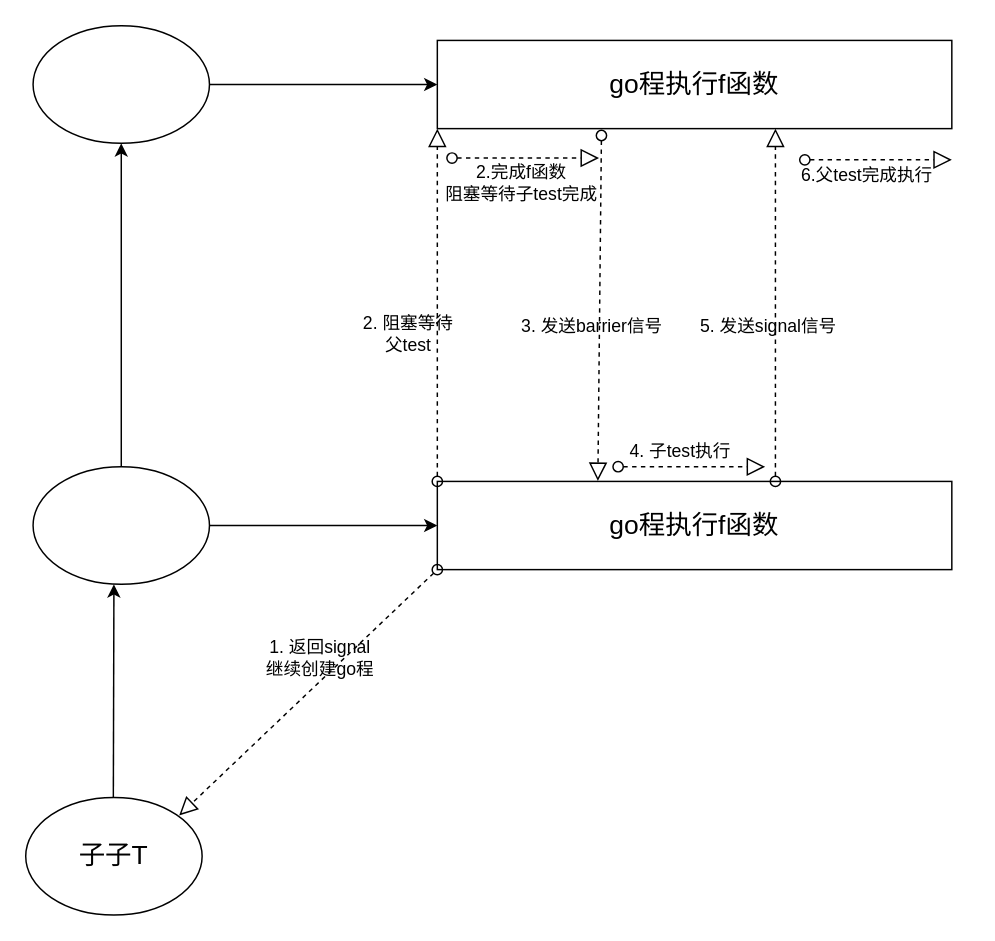
This 995x941 diagram has some shape labels left out. The centre of each missing label's shape, as x and y in pixels:
子T: (120,524)
父T: (120,83)
